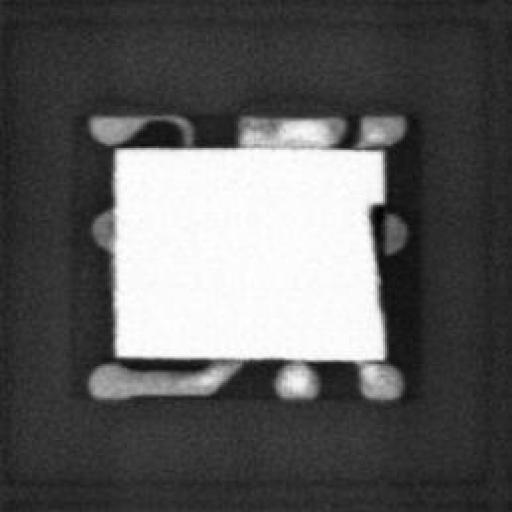DIE_BROKEN: (363, 197, 387, 315)
